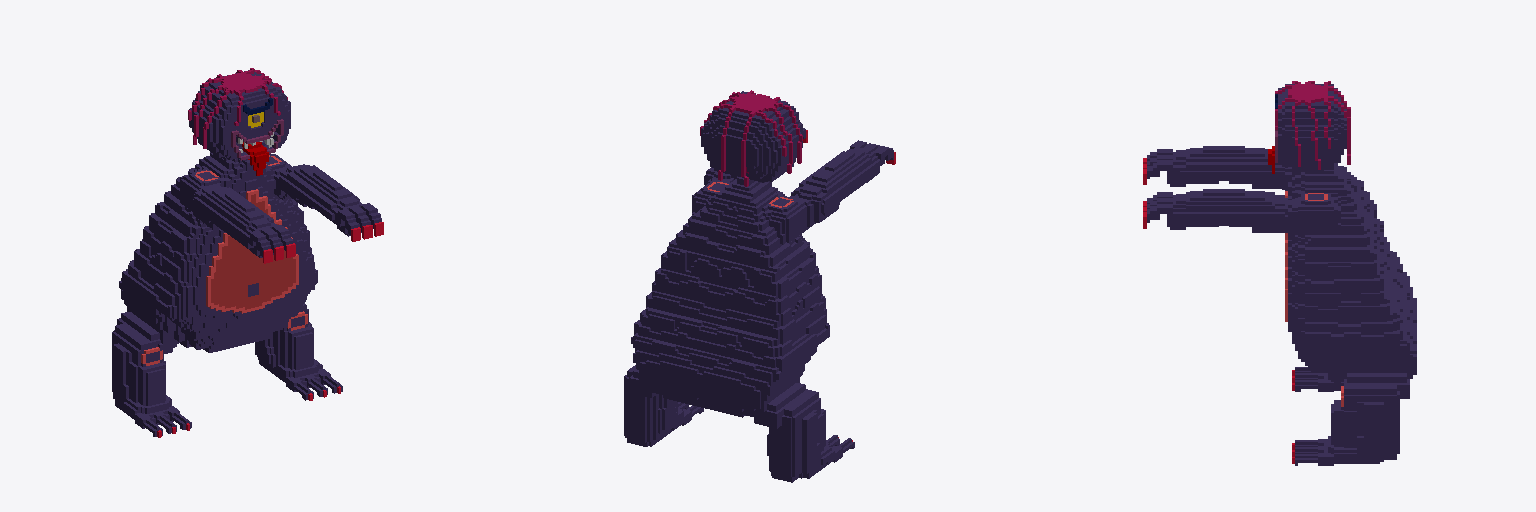
3 views of the same model, side by side, from view 1: azimuth 30°, elevation 25°; view 2: azimuth 150°, elevation 25°; view 3: azimuth 270°, elevation 25° (orthographic).
Visible parts, largest first — view 1: object 1; view 2: object 1; view 3: object 1.
Part boxes in pixels (left/top/right/bottom): object 1: left=112, top=68, right=383, bottom=437; object 1: left=624, top=90, right=895, bottom=482; object 1: left=1143, top=81, right=1416, bottom=465.
Bounding box in the file's own units: 6.6 × 11 × 8.3.
1 materials, 1 textured.